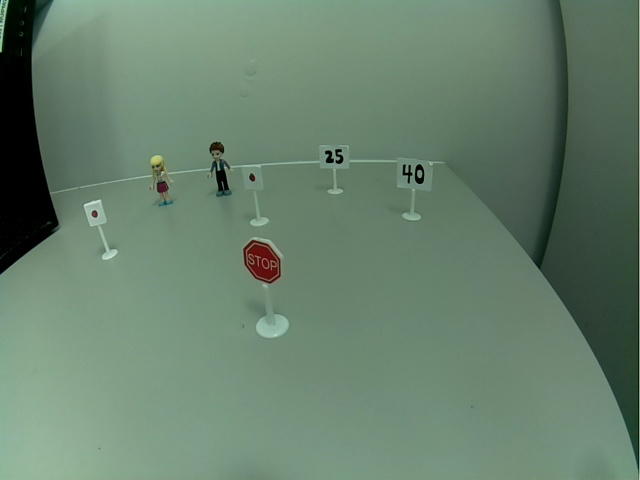people: (205, 141, 237, 201), (147, 153, 177, 209)
red light: (82, 198, 108, 228), (240, 163, 266, 192)
speed 25: (316, 142, 352, 171)
speed 40: (394, 156, 435, 192)
stop: (241, 235, 285, 287)
